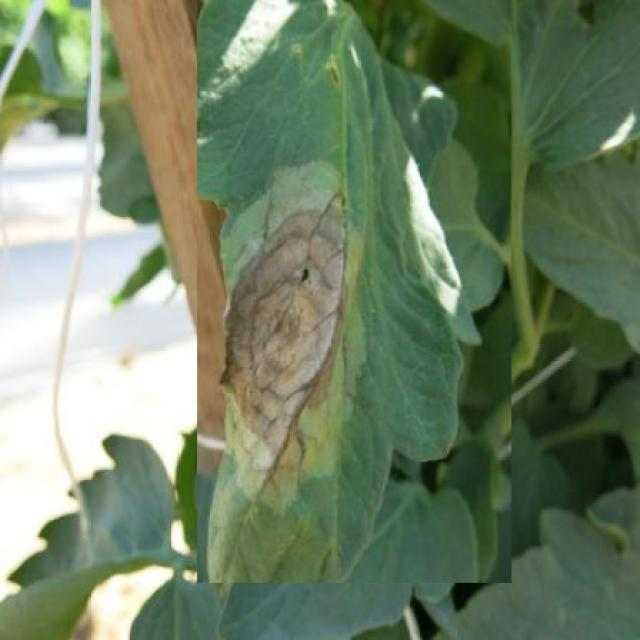Late Blight: (197, 0, 512, 582)
